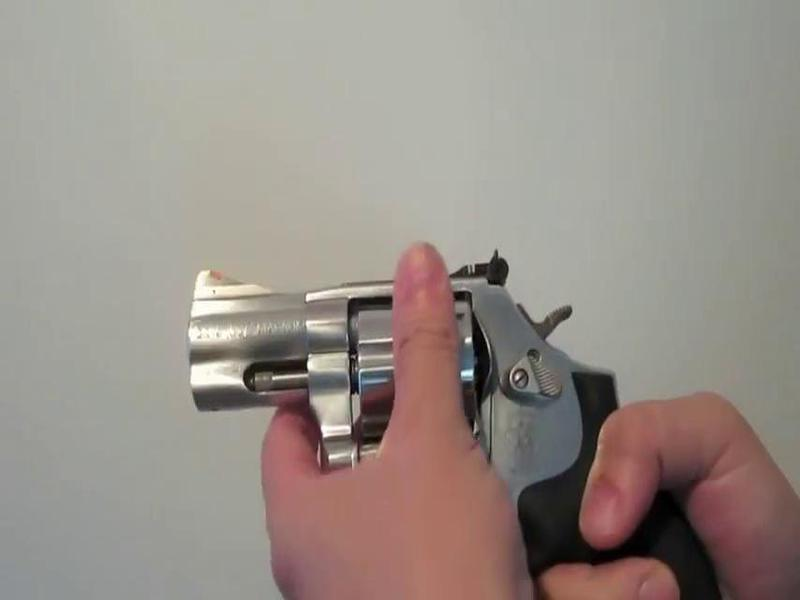Revolver: (166, 240, 671, 600)
